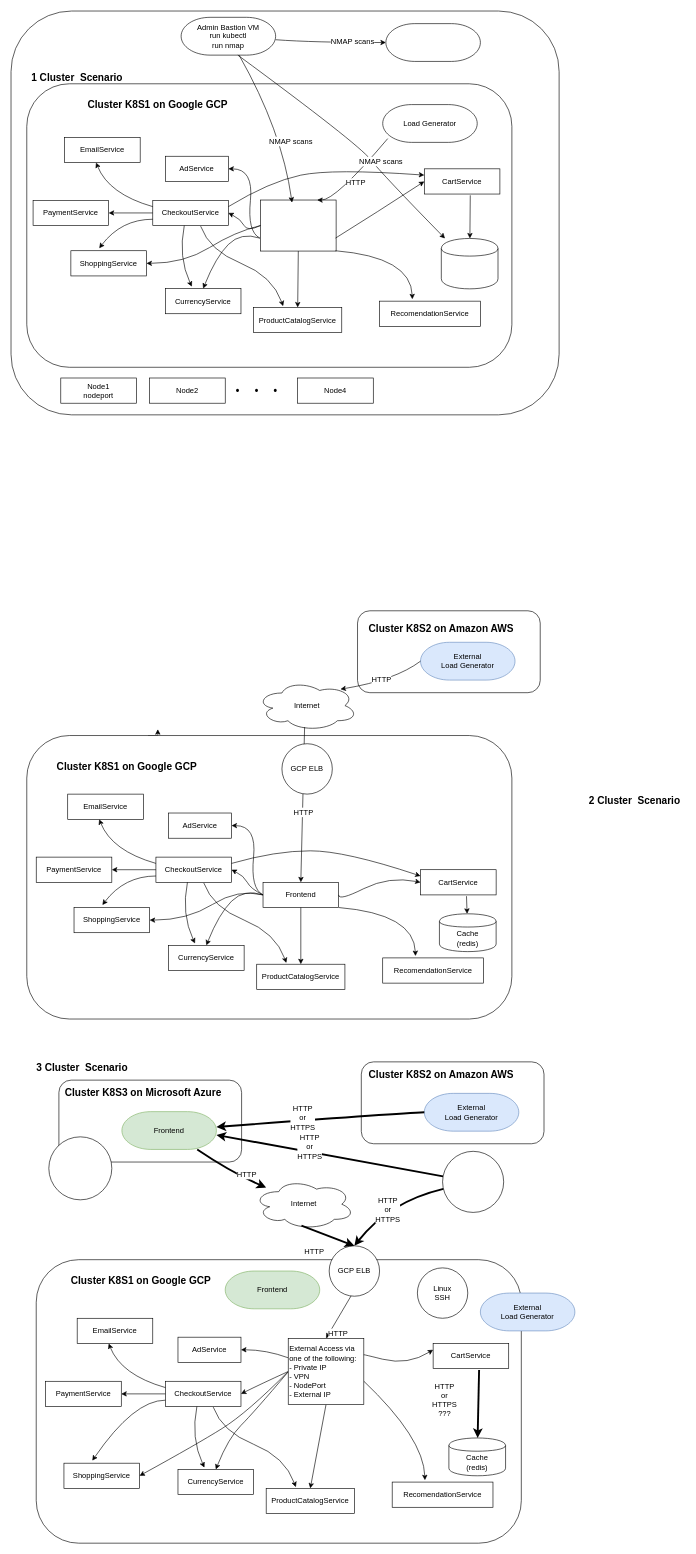
Some shapes in this 696 by 1554 pixel diagram are drawn without their labels. The shapes that lost their labels are listed below. From the top down, each one's box as (x1, y1, x2, y2) in pixels, then its label:
(385, 23, 480, 61): App Server VM (old - vulnerable code)
(260, 199, 336, 251): Frontend Port 80 exposed outside cluster
(441, 238, 498, 289): Cache (redis) Port 6379
(48, 1136, 112, 1200): Linux SSH Vulnerable for CVE protection
(442, 1151, 504, 1212): Linux SSH CURL NMAP
